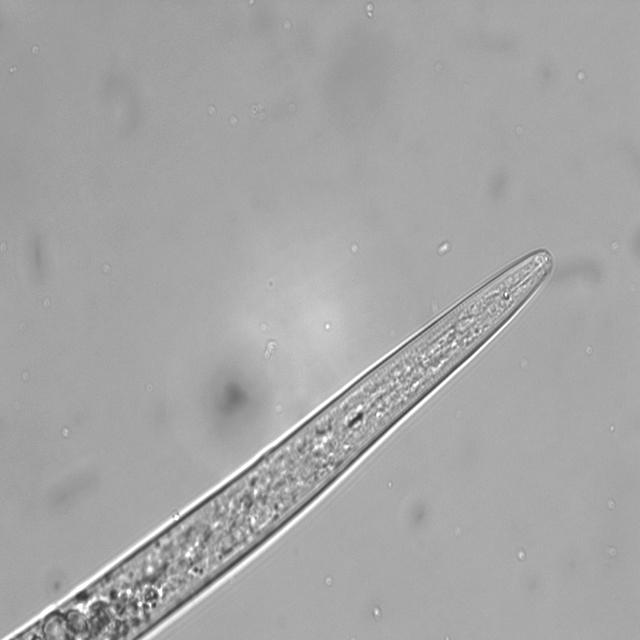Meloidogyne: (1, 243, 559, 640)
